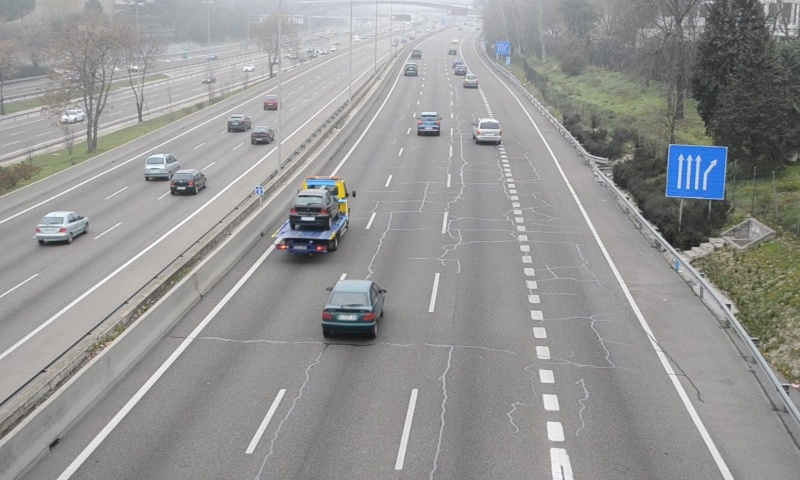car: (321, 278, 381, 332), (472, 117, 502, 144), (416, 111, 441, 134), (464, 72, 479, 88), (402, 62, 417, 78)
small-truck: (271, 175, 350, 252)
